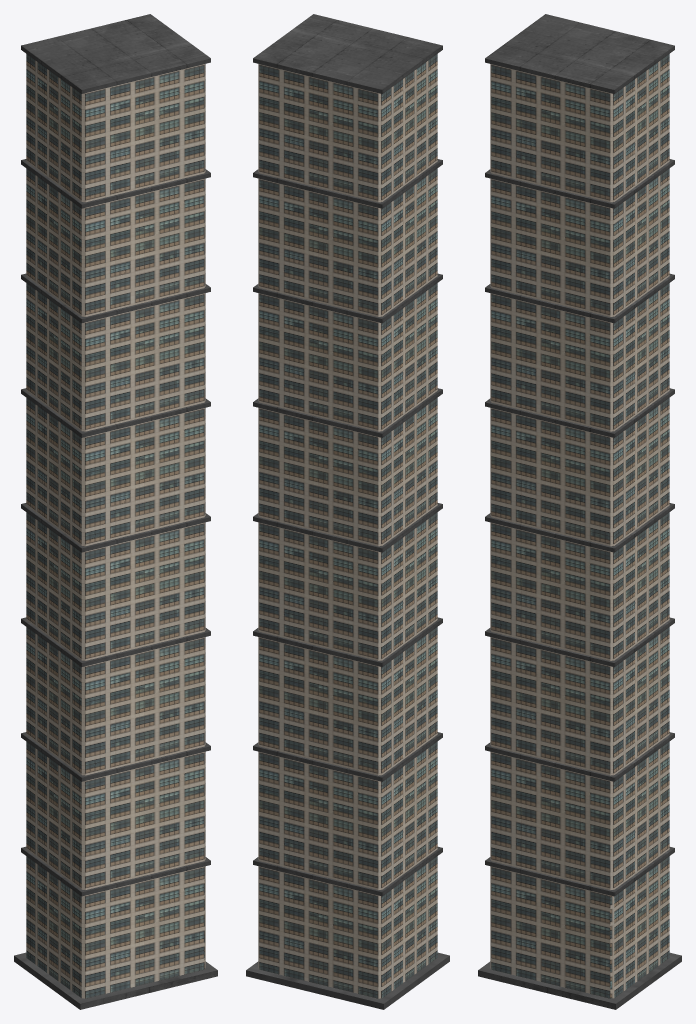
File: z-building.fbx
3 views of the same model, side by side, from view 1: azimuth 30°, elevation 25°; view 2: azimuth 150°, elevation 25°; view 3: azimuth 330°, elevation 25° (orthographic).
Visible parts, largest first — view 1: Roads.003; view 2: Roads.003; view 3: Roads.003.
Boxes of the visible parts, x1,y1,x2,y2 form: Roads.003: (14, 14, 217, 1009); Roads.003: (246, 14, 449, 1009); Roads.003: (478, 14, 681, 1009).
Bounding box in the file's own units: 1129 × 7178 × 938.
